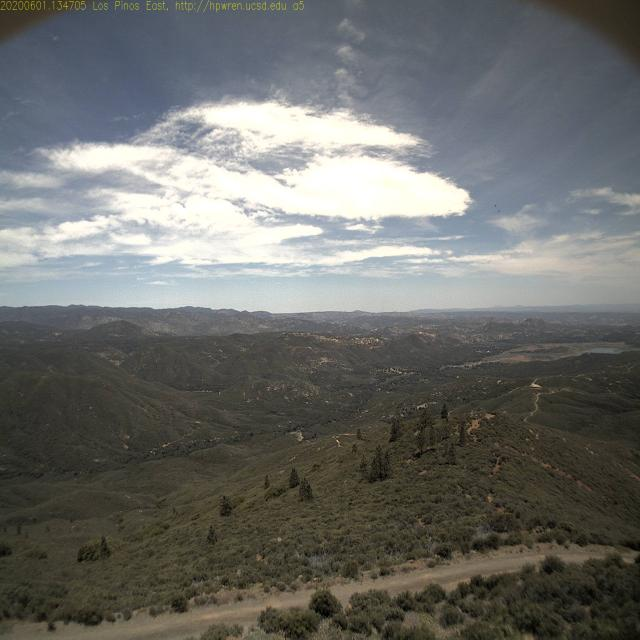smoke: (391, 300, 408, 320)
